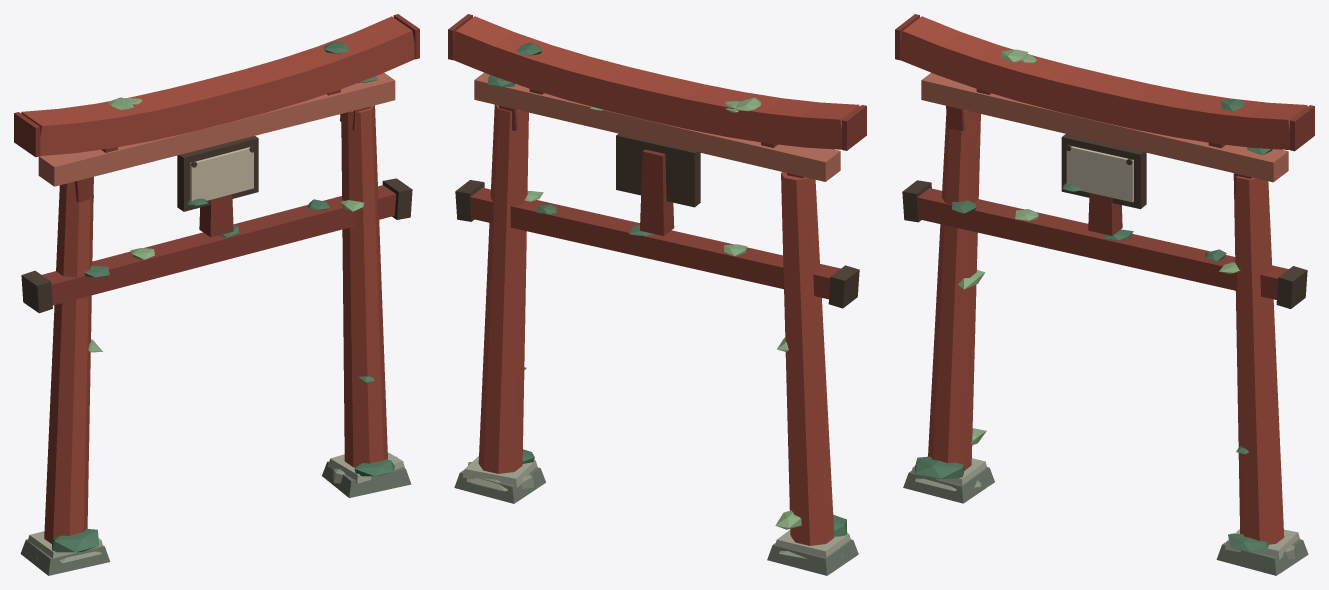
The model's file is torii_gate.glb.
The picture shows the model from 3 angles, left to right: view 1: azimuth 30°, elevation 25°; view 2: azimuth 150°, elevation 25°; view 3: azimuth 330°, elevation 25°; orthographic projection.
Visible parts, largest first — view 1: torii_gate; view 2: torii_gate; view 3: torii_gate.
Part boxes in pixels (x1,y1,x2,y2): torii_gate: (14, 14, 419, 575); torii_gate: (448, 14, 866, 575); torii_gate: (895, 14, 1314, 575).
Bounding box in the file's own units: 5.01 × 5.5 × 0.9463.
